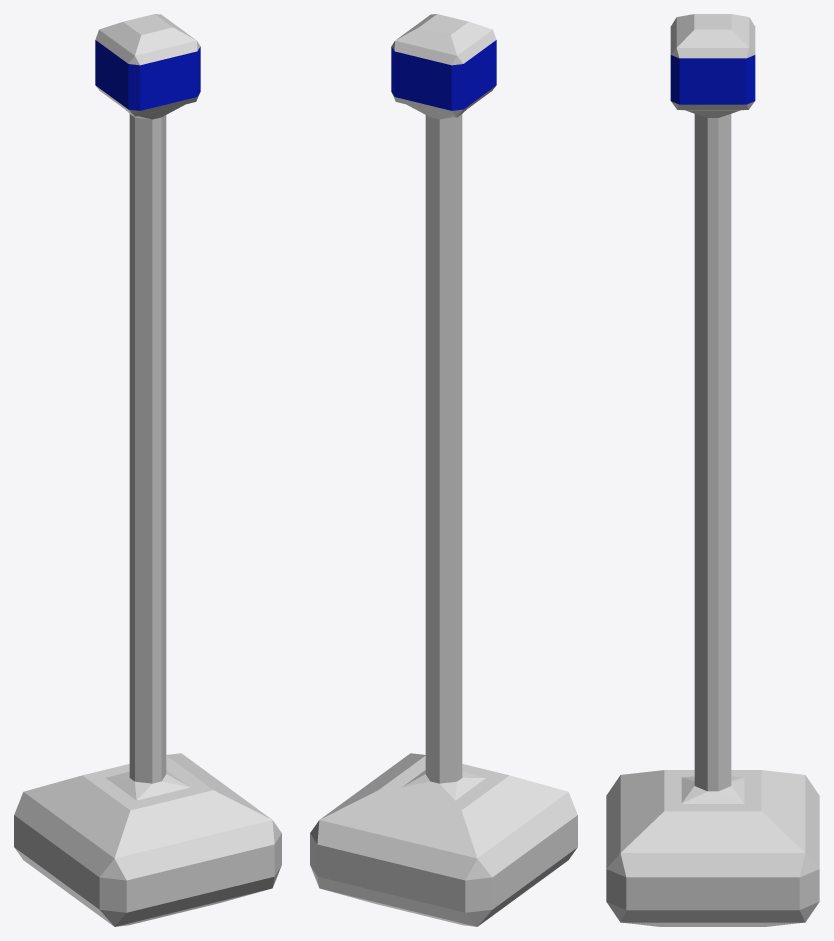
Rendered from Lamp.fbx.
The picture shows the model from 3 angles, left to right: view 1: azimuth 30°, elevation 25°; view 2: azimuth 150°, elevation 25°; view 3: azimuth 270°, elevation 25°; orthographic projection.
Visible parts, largest first — view 1: Cube; view 2: Cube; view 3: Cube.
Part boxes in pixels (x1=…): Cube: x1=14, y1=14, x2=281, y2=926; Cube: x1=310, y1=14, x2=577, y2=926; Cube: x1=606, y1=14, x2=819, y2=926.
Bounding box in the file's own units: 0.7355 × 3.36 × 0.7355.
